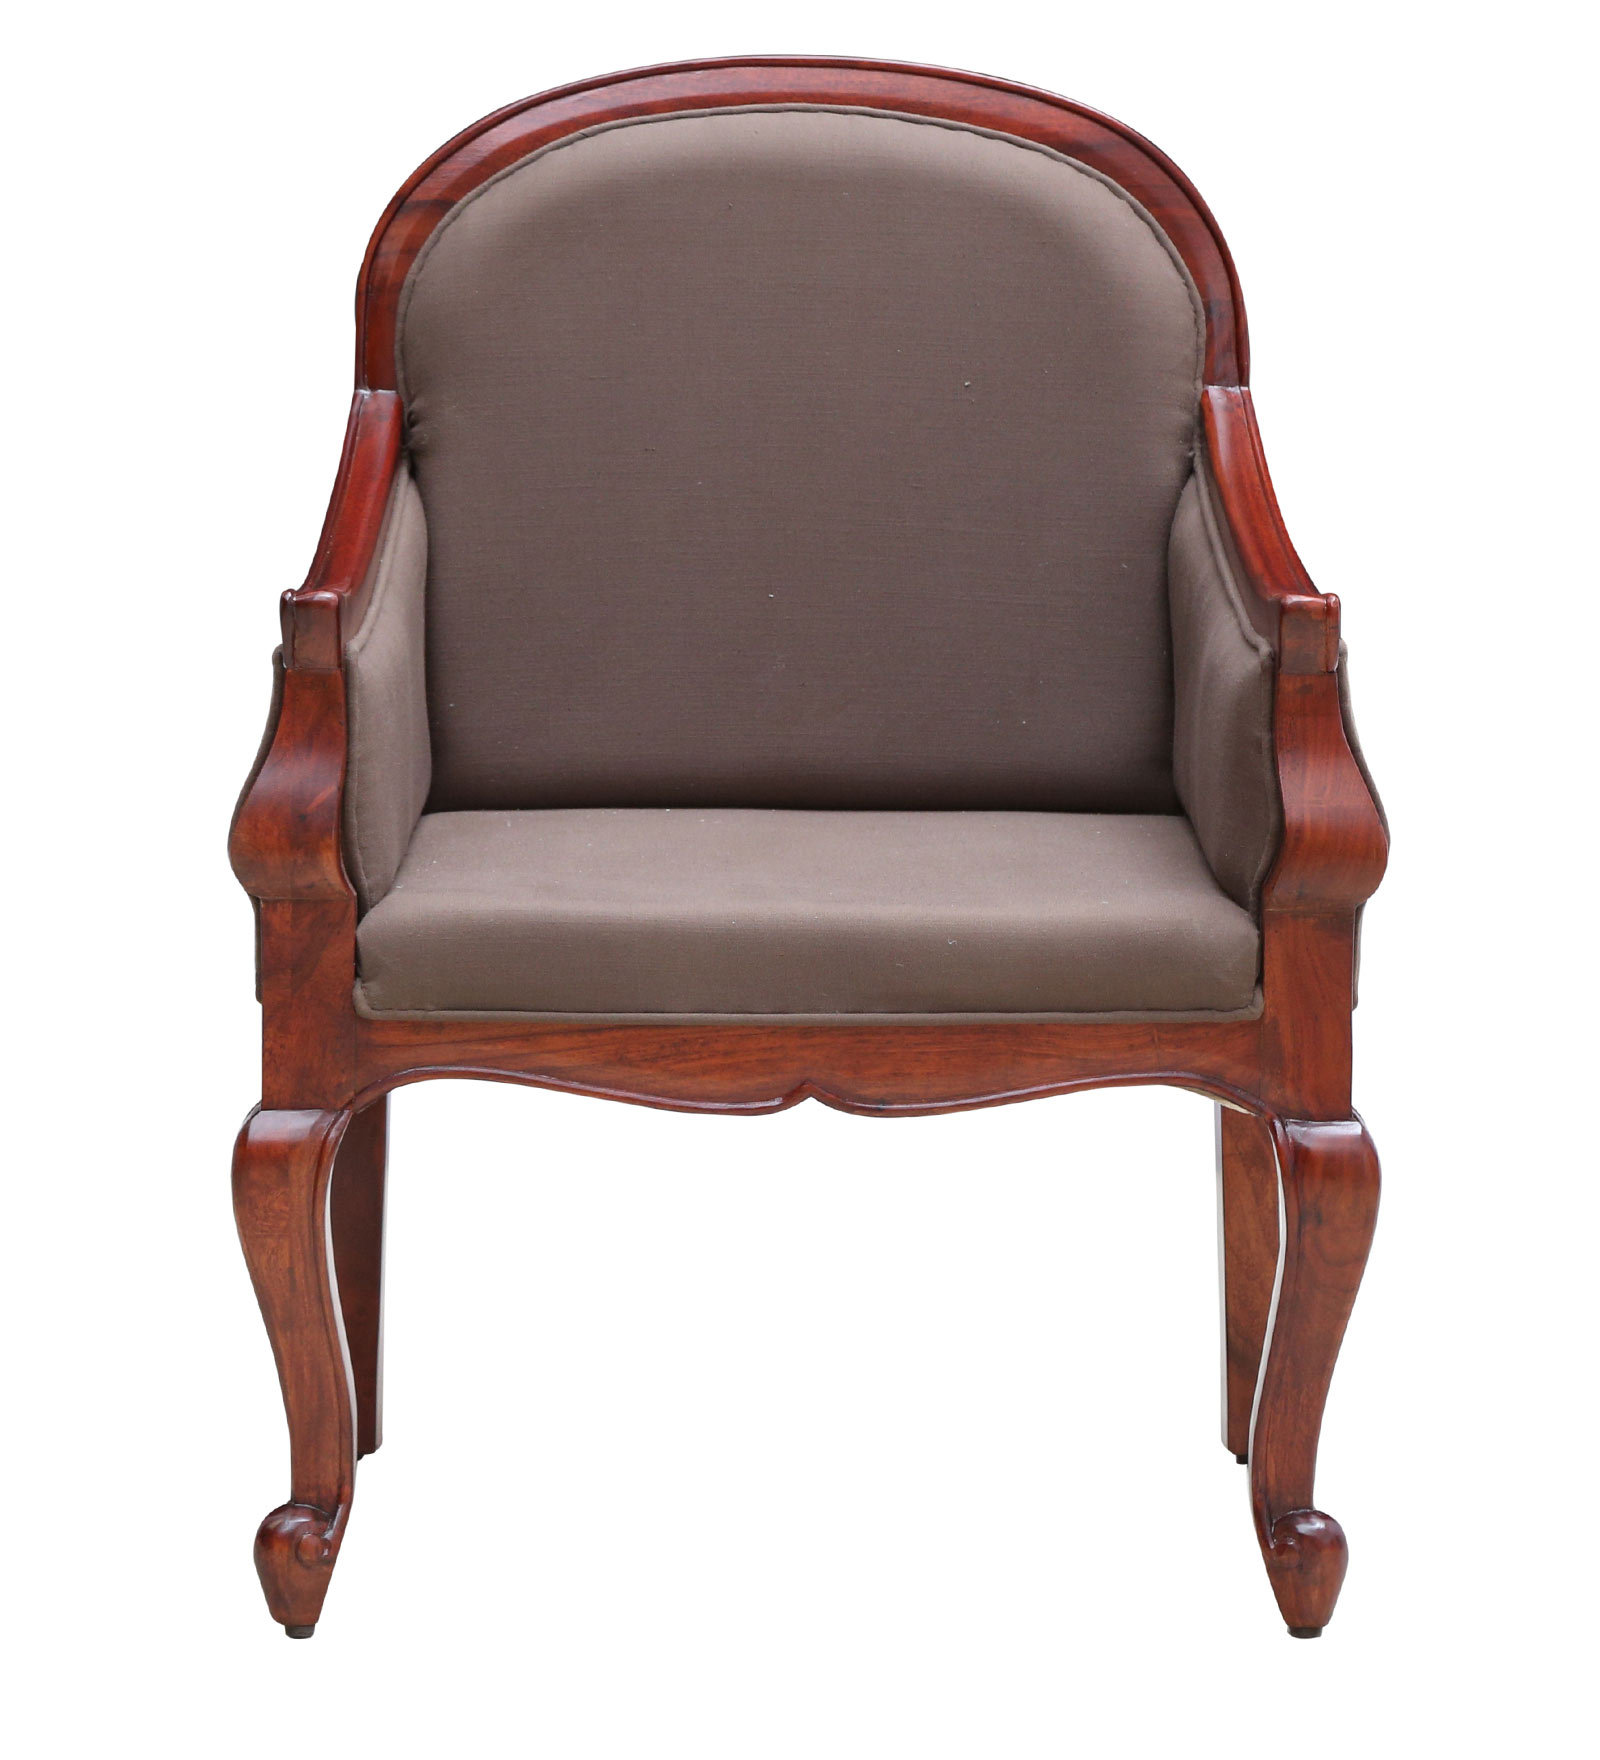Clifford Arm Chair in Honey Oak Finish by Amberville: (173, 41, 1438, 1752)
